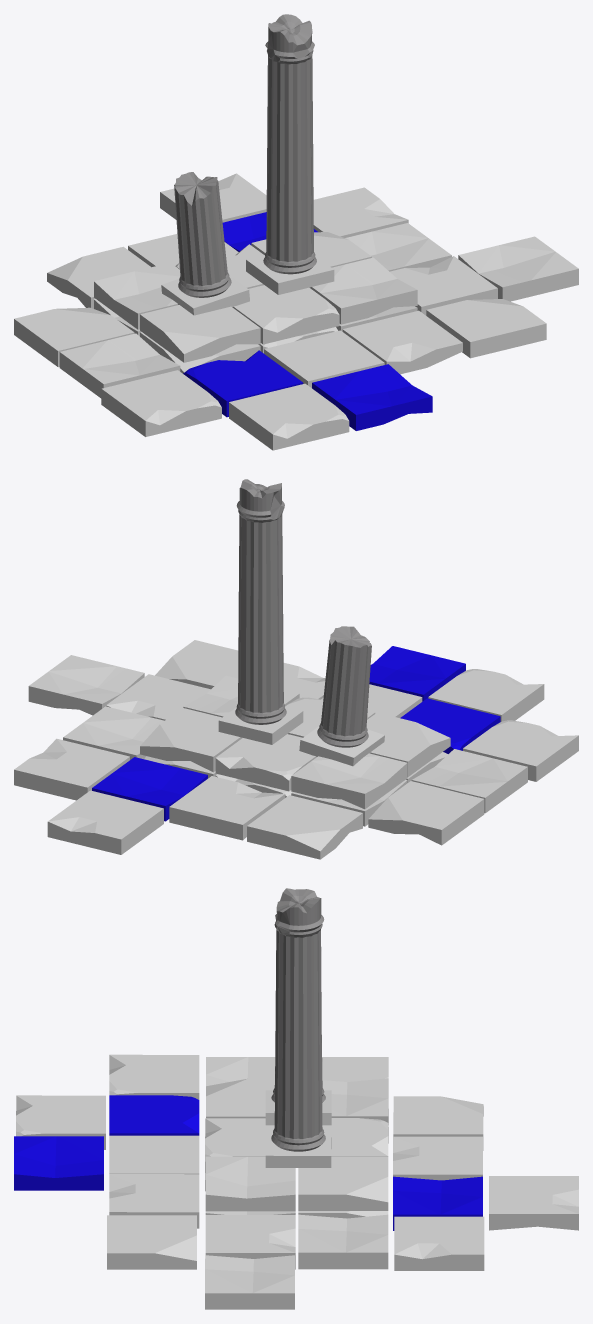
Rendered from colonne.fbx.
3 renders of one model, top to bottom at view 1: azimuth 30°, elevation 25°; view 2: azimuth 150°, elevation 25°; view 3: azimuth 270°, elevation 25°, orthographic. The views are drawn at different scales.
Visible parts, largest first — view 1: colonne; view 2: colonne; view 3: colonne.
Boxes of the visible parts, x1=… form: colonne: x1=14, y1=14, x2=578, y2=450; colonne: x1=14, y1=479, x2=578, y2=859; colonne: x1=14, y1=888, x2=578, y2=1309.
Size of the model in its own units: 2106 by 1205 by 2103.
